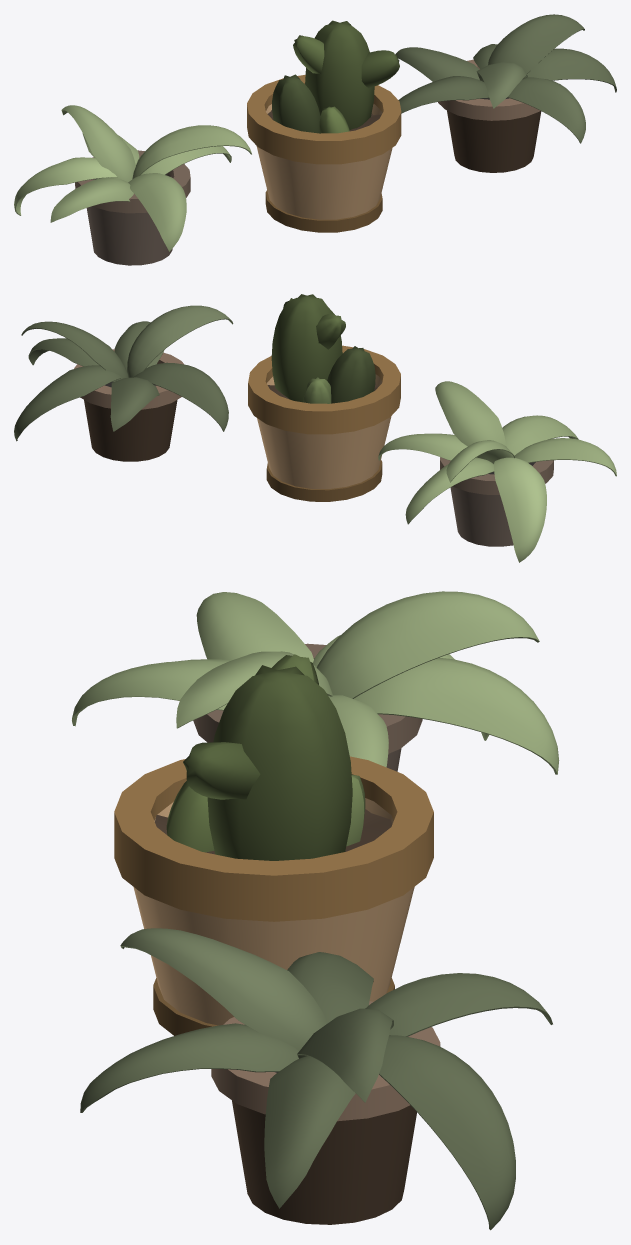
Rendered from 2 colored plants bedroom.fbx.
3 renders of one model, top to bottom at view 1: azimuth 30°, elevation 25°; view 2: azimuth 150°, elevation 25°; view 3: azimuth 270°, elevation 25°, orthographic. The views are drawn at different scales.
Visible parts, largest first — view 1: polySurface2, polySurface3, polySurface5, polySurface15, polySurface25, polySurface17, polySurface21, polySurface16, polySurface27, polySurface29, polySurface6, polySurface12 (+12 smaller); view 2: polySurface2, polySurface3, polySurface5, polySurface15, polySurface28, polySurface19, polySurface29, polySurface25, polySurface11, polySurface18, polySurface6, polySurface30 (+13 smaller); view 3: polySurface3, polySurface5, polySurface2, polySurface15, polySurface27, polySurface18, polySurface19, polySurface22, polySurface12, polySurface16, polySurface20, polySurface30 (+12 smaller).
Boxes of the visible parts, left/top/right/bottom form: polySurface2: left=256, top=104, right=392, bottom=219; polySurface3: left=247, top=74, right=401, bottom=164; polySurface5: left=305, top=20, right=374, bottom=129; polySurface15: left=447, top=110, right=541, bottom=172; polySurface25: left=86, top=173, right=172, bottom=265; polySurface17: left=488, top=14, right=584, bottom=73; polySurface21: left=128, top=173, right=186, bottom=251; polySurface16: left=489, top=77, right=585, bottom=143; polySurface27: left=61, top=105, right=135, bottom=182; polySurface29: left=132, top=125, right=251, bottom=179; polySurface6: left=272, top=74, right=320, bottom=133; polySurface12: left=527, top=48, right=616, bottom=92; polySurface2: left=257, top=374, right=391, bottom=488; polySurface3: left=248, top=345, right=400, bottom=434; polySurface5: left=271, top=294, right=342, bottom=402; polySurface15: left=84, top=399, right=177, bottom=461; polySurface28: left=494, top=457, right=546, bottom=562; polySurface19: left=127, top=305, right=233, bottom=377; polySurface29: left=435, top=381, right=505, bottom=446; polySurface25: left=450, top=462, right=535, bottom=546; polySurface11: left=133, top=362, right=228, bottom=431; polySurface18: left=14, top=365, right=121, bottom=441; polySurface6: left=327, top=346, right=375, bottom=403; polySurface30: left=514, top=438, right=616, bottom=476; polySurface3: left=114, top=756, right=433, bottom=921; polySurface5: left=207, top=665, right=352, bottom=860; polySurface2: left=133, top=798, right=414, bottom=1025; polySurface15: left=232, top=1100, right=416, bottom=1224; polySurface27: left=316, top=591, right=539, bottom=698; polySurface18: left=379, top=1035, right=515, bottom=1230; polySurface19: left=120, top=928, right=327, bottom=1050; polySurface22: left=354, top=657, right=559, bottom=774; polySurface12: left=264, top=1056, right=355, bottom=1208; polySurface16: left=80, top=1023, right=298, bottom=1112; polySurface20: left=365, top=973, right=552, bottom=1036; polySurface30: left=196, top=592, right=313, bottom=662.
Size of the model in its own units: 0.3757 by 0.1125 by 0.1385.
